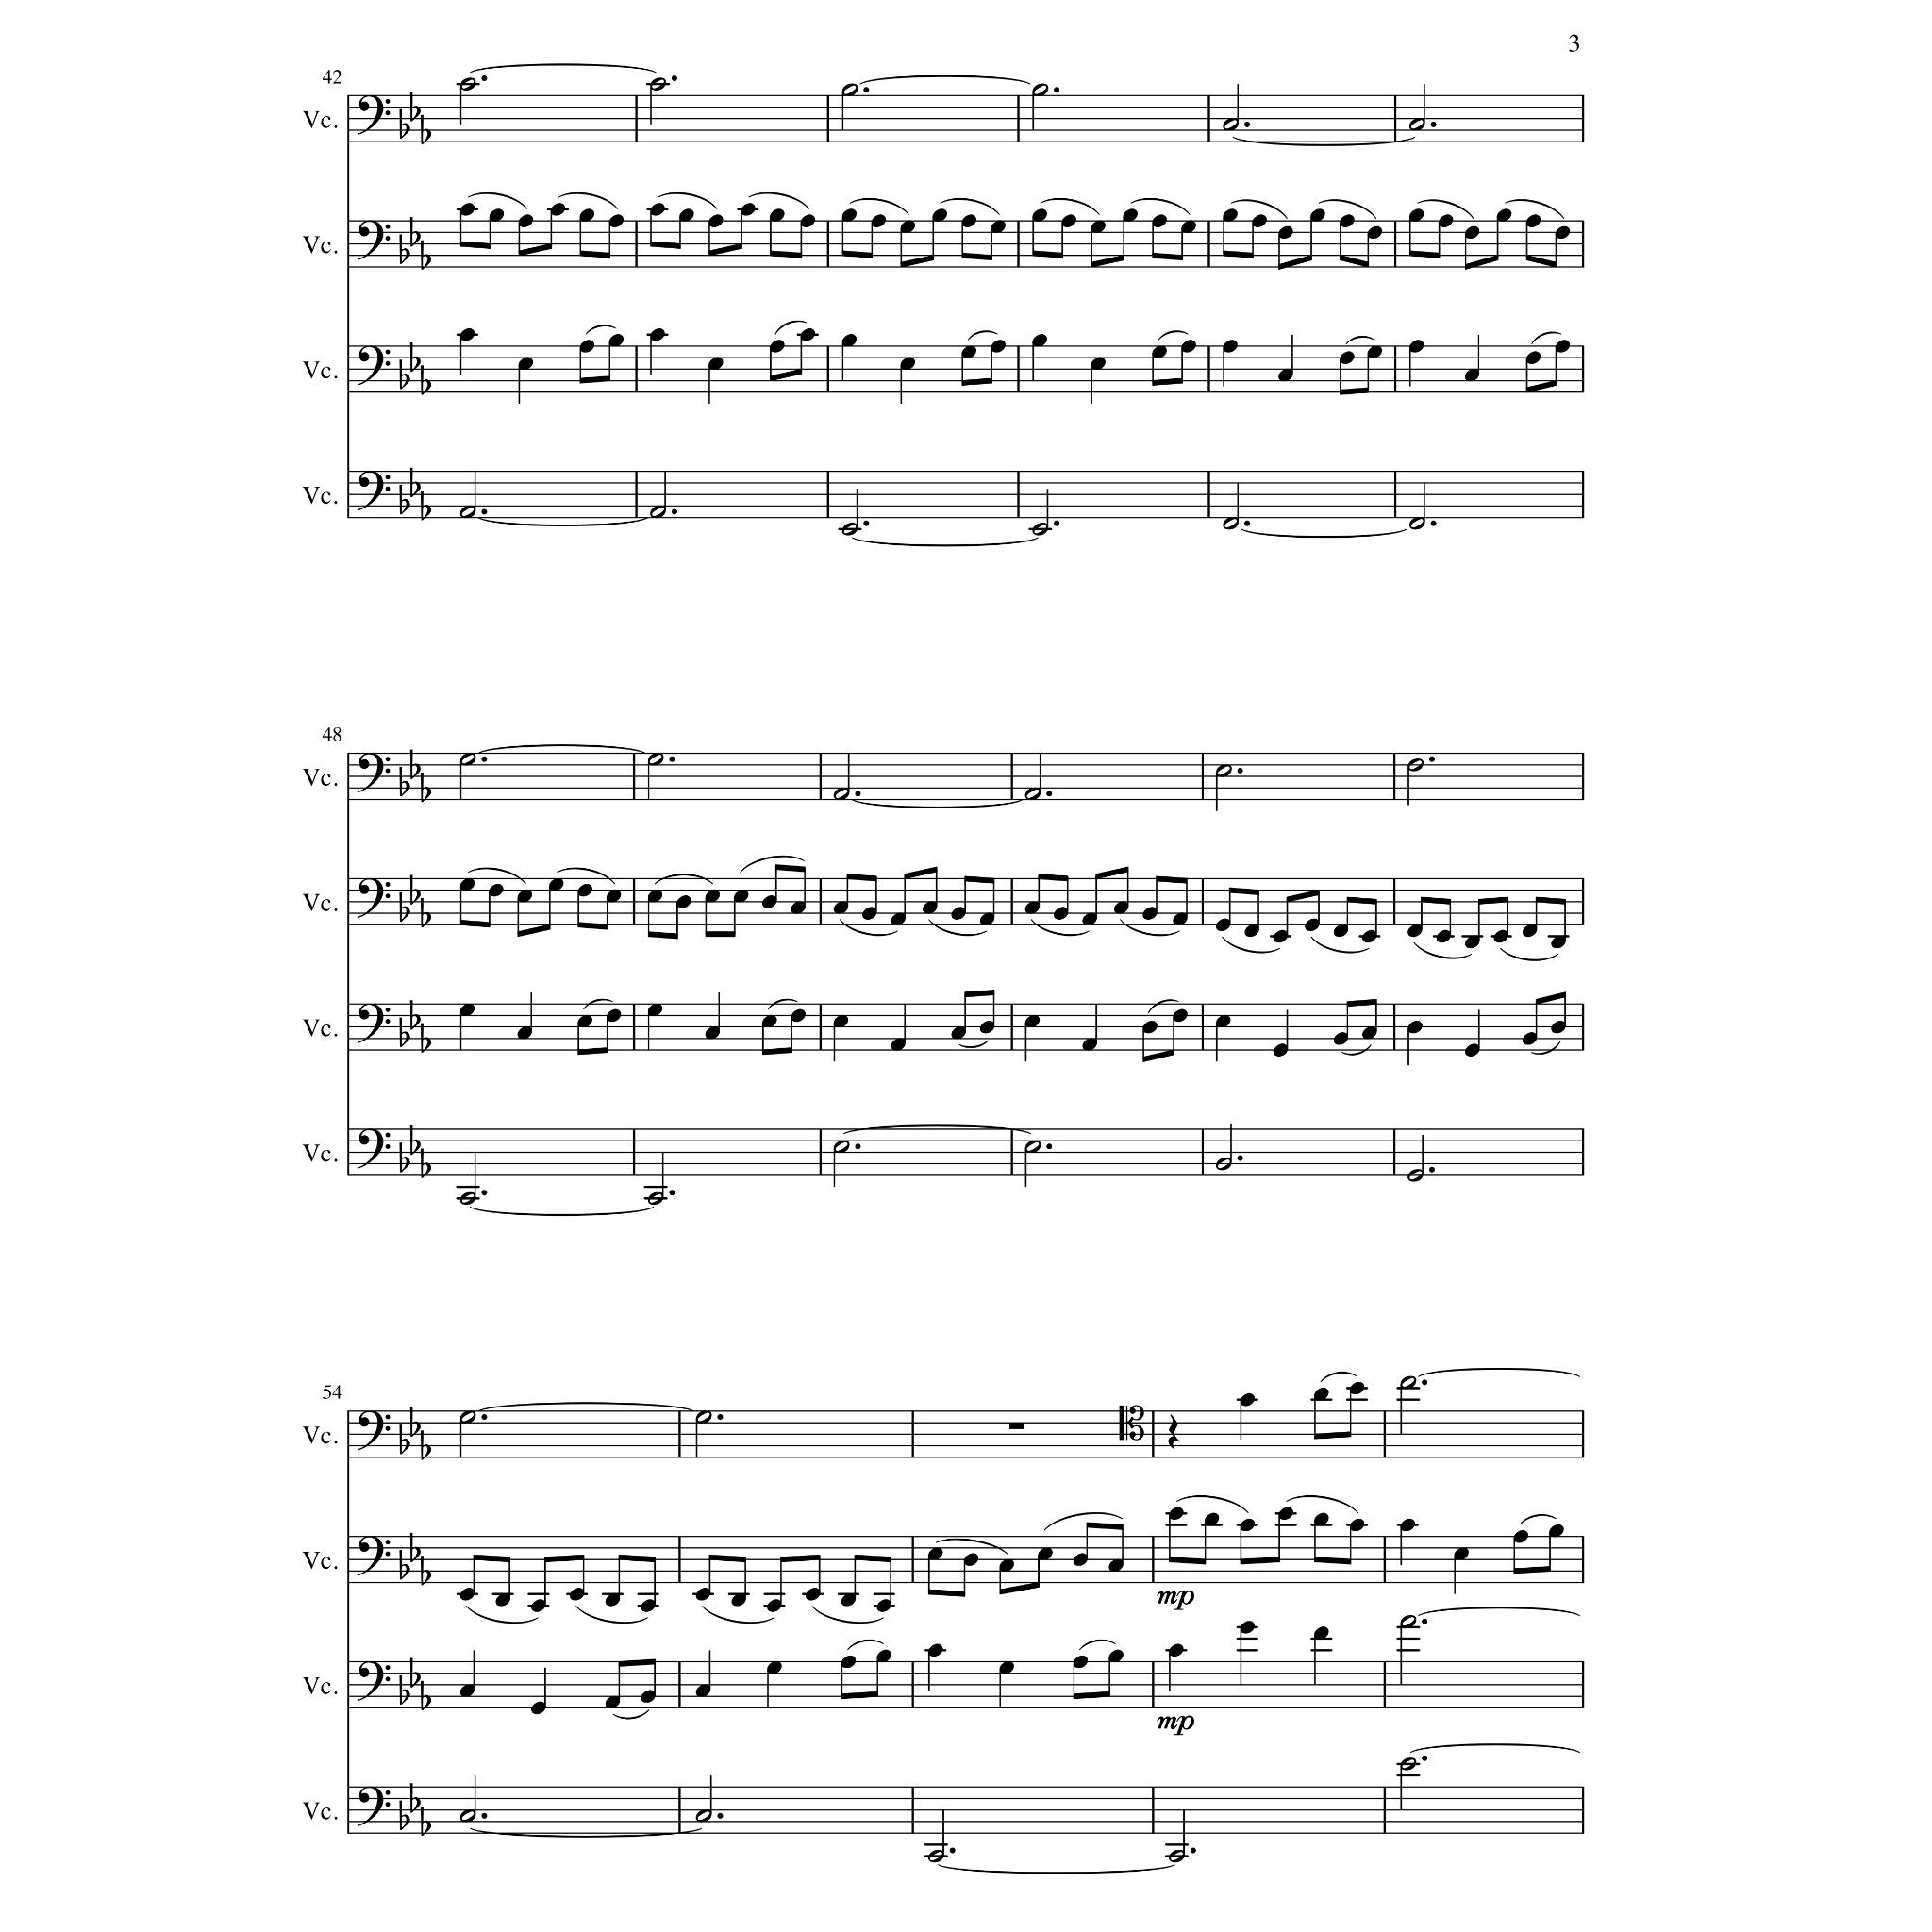fClef: (357, 345, 391, 386), (357, 471, 391, 511), (357, 96, 391, 136), (357, 1003, 391, 1044), (357, 1129, 391, 1169), (357, 754, 391, 794), (357, 878, 391, 918), (357, 1410, 391, 1451), (357, 1536, 391, 1576), (357, 1661, 391, 1702), (357, 1787, 391, 1828), (357, 221, 391, 260)
noteheadBlack: (1553, 340, 1571, 354), (517, 214, 534, 228), (517, 357, 534, 372), (1214, 918, 1231, 932), (1141, 906, 1159, 920), (1313, 1387, 1330, 1401), (1313, 1626, 1330, 1640), (1251, 214, 1267, 228), (1277, 368, 1293, 382), (1366, 345, 1382, 359), (1338, 214, 1353, 228), (1338, 352, 1353, 366), (1152, 214, 1168, 228), (1152, 345, 1168, 359), (1062, 214, 1077, 228), (1090, 357, 1106, 372), (1223, 340, 1238, 354), (1180, 340, 1196, 354), (1408, 340, 1424, 354), (1525, 214, 1541, 228), (1525, 352, 1541, 366), (1437, 214, 1453, 228), (1463, 368, 1479, 382), (649, 203, 665, 218), (609, 214, 625, 228), (708, 357, 724, 372), (708, 214, 724, 228), (579, 340, 594, 354), (458, 203, 474, 218), (550, 203, 566, 218), (961, 214, 977, 228), (961, 345, 977, 359), (740, 203, 755, 218), (870, 214, 886, 228), (899, 357, 915, 372), (991, 340, 1007, 354), (768, 340, 784, 354), (800, 214, 816, 228), (1304, 918, 1320, 932), (1332, 1031, 1348, 1046), (1361, 1026, 1376, 1040), (1053, 906, 1069, 920), (1081, 913, 1097, 927), (1081, 1037, 1097, 1051), (1173, 913, 1189, 927), (1173, 1008, 1189, 1023), (1522, 1031, 1537, 1046), (648, 1003, 663, 1017), (605, 1008, 621, 1023), (458, 878, 474, 892), (458, 1003, 474, 1017), (517, 1026, 533, 1040), (548, 878, 564, 892), (704, 1026, 720, 1040), (950, 906, 966, 920), (950, 1026, 966, 1040), (862, 906, 878, 920), (890, 913, 906, 927), (890, 1037, 906, 1051), (978, 913, 994, 927), (791, 1008, 807, 1023), (1238, 1392, 1254, 1407), (1238, 1518, 1254, 1532), (1238, 1621, 1254, 1635), (1277, 1507, 1293, 1522), (1108, 1649, 1123, 1663), (1108, 1559, 1123, 1573), (1037, 1546, 1053, 1560), (1168, 1644, 1184, 1658), (1168, 1507, 1184, 1522), (1399, 1518, 1415, 1532), (1348, 1518, 1364, 1532), (1348, 1382, 1364, 1396), (1453, 1546, 1468, 1560), (1513, 1530, 1529, 1545), (529, 1599, 545, 1614), (529, 1700, 545, 1714), (640, 1599, 656, 1614), (568, 1587, 584, 1601), (695, 1587, 711, 1601), (458, 1587, 474, 1601), (927, 1546, 943, 1560), (927, 1644, 943, 1658), (876, 1599, 892, 1614), (876, 1649, 892, 1663), (998, 1559, 1014, 1573), (766, 1599, 782, 1614), (805, 1587, 821, 1601), (1553, 226, 1571, 239), (1214, 1016, 1231, 1028), (1141, 1021, 1159, 1033), (1313, 1513, 1330, 1525), (1277, 226, 1293, 239), (1366, 226, 1382, 239), (1122, 209, 1138, 221), (1090, 221, 1106, 234), (1223, 209, 1238, 221), (1180, 221, 1196, 234), (1408, 209, 1424, 221), (1495, 209, 1511, 221), (1463, 226, 1479, 239), (649, 329, 665, 341), (609, 334, 625, 347), (679, 209, 695, 221), (458, 329, 474, 341), (579, 209, 594, 221), (488, 209, 504, 221), (932, 209, 948, 221), (899, 221, 915, 234), (991, 221, 1007, 234), (1031, 209, 1047, 221), (1031, 334, 1047, 347), (840, 209, 856, 221), (840, 334, 856, 347), (768, 209, 784, 221), (800, 329, 816, 341), (1332, 925, 1348, 938), (1272, 1044, 1288, 1056), (1244, 925, 1260, 938), (1272, 931, 1288, 943), (1361, 931, 1376, 943), (1113, 902, 1129, 915), (1550, 936, 1566, 948), (1550, 1021, 1566, 1033), (1407, 925, 1422, 938), (1407, 1021, 1422, 1033), (1493, 931, 1509, 943), (1522, 925, 1537, 938), (1435, 931, 1451, 943), (1465, 936, 1481, 948), (1465, 1044, 1481, 1056), (648, 890, 663, 902), (605, 890, 621, 902), (676, 895, 692, 908), (704, 890, 720, 902), (577, 1016, 593, 1028), (517, 890, 533, 902), (577, 885, 593, 897), (487, 885, 502, 897), (922, 902, 938, 915), (1024, 1016, 1040, 1028), (978, 1021, 994, 1033), (1024, 902, 1040, 915), (833, 1016, 849, 1028), (732, 890, 748, 902), (761, 895, 777, 908), (761, 1016, 777, 1028), (833, 902, 849, 915), (791, 902, 807, 915), (1203, 1513, 1219, 1525), (1072, 1656, 1088, 1668), (1072, 1553, 1088, 1566), (1548, 1525, 1564, 1537), (605, 1594, 621, 1606), (605, 1697, 621, 1709), (640, 1690, 656, 1702), (695, 1684, 711, 1697), (495, 1594, 511, 1606), (458, 1684, 474, 1697), (962, 1553, 978, 1566), (998, 1661, 1014, 1674), (731, 1594, 747, 1606), (766, 1661, 782, 1674), (840, 1656, 856, 1668), (840, 1594, 856, 1606), (1311, 209, 1325, 221)
noteheadHalf: (1221, 517, 1238, 531), (1221, 117, 1238, 131), (1408, 117, 1426, 131), (1408, 517, 1426, 531), (1031, 522, 1049, 536), (1031, 83, 1049, 97), (1024, 787, 1042, 801), (1399, 1757, 1417, 1771), (1399, 1375, 1417, 1389), (695, 1410, 713, 1424), (649, 78, 665, 92), (460, 78, 476, 92), (842, 83, 858, 97), (842, 522, 858, 536), (1215, 764, 1231, 778), (1215, 1157, 1231, 1171), (648, 752, 663, 766), (460, 752, 476, 766), (833, 787, 849, 801), (460, 1410, 476, 1424), (1407, 759, 1424, 771), (1407, 1169, 1424, 1182), (1024, 1141, 1042, 1154), (1168, 1851, 1185, 1863), (1399, 1615, 1417, 1628), (695, 1810, 713, 1822), (927, 1851, 945, 1863), (649, 506, 665, 518), (460, 506, 476, 518), (648, 1192, 663, 1205), (460, 1192, 476, 1205), (833, 1141, 849, 1154), (460, 1810, 476, 1822)
restQuarter: (1168, 1414, 1180, 1451)
restWhole: (1008, 1422, 1024, 1430)
